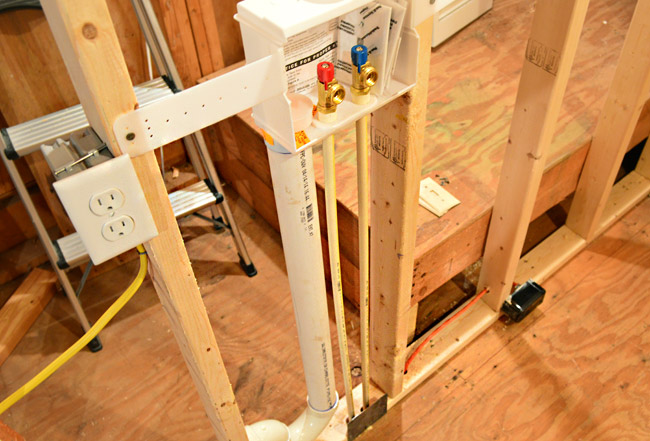outlet: (91, 192, 121, 214), (108, 215, 130, 242)
